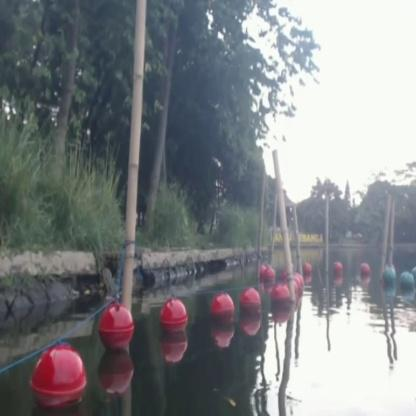green_buoy: (400, 268, 415, 295), (380, 266, 396, 290)
red_buoy: (28, 344, 86, 414), (96, 302, 134, 354), (158, 294, 187, 338), (212, 294, 236, 326), (240, 288, 260, 322), (273, 286, 290, 314), (292, 272, 304, 304), (261, 264, 275, 284), (359, 260, 371, 278), (303, 260, 313, 280), (332, 259, 342, 278)
